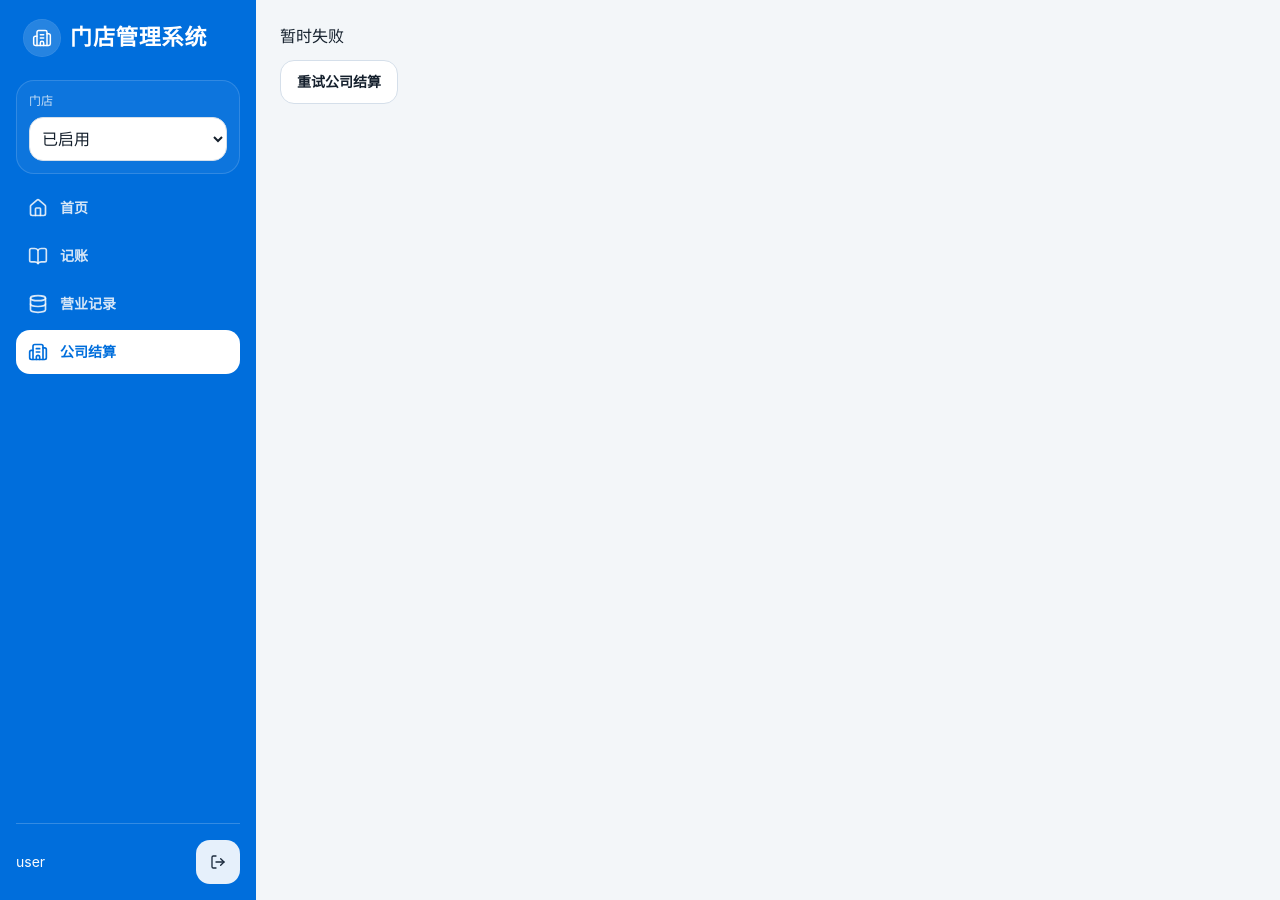
Test: App › offers an accessible retry when the settlement gate read fails
Expected: the message shows "暂时失败", [280, 26, 344, 46]
Click the button "重试公司结算" at [339, 82], box [280, 60, 398, 104]
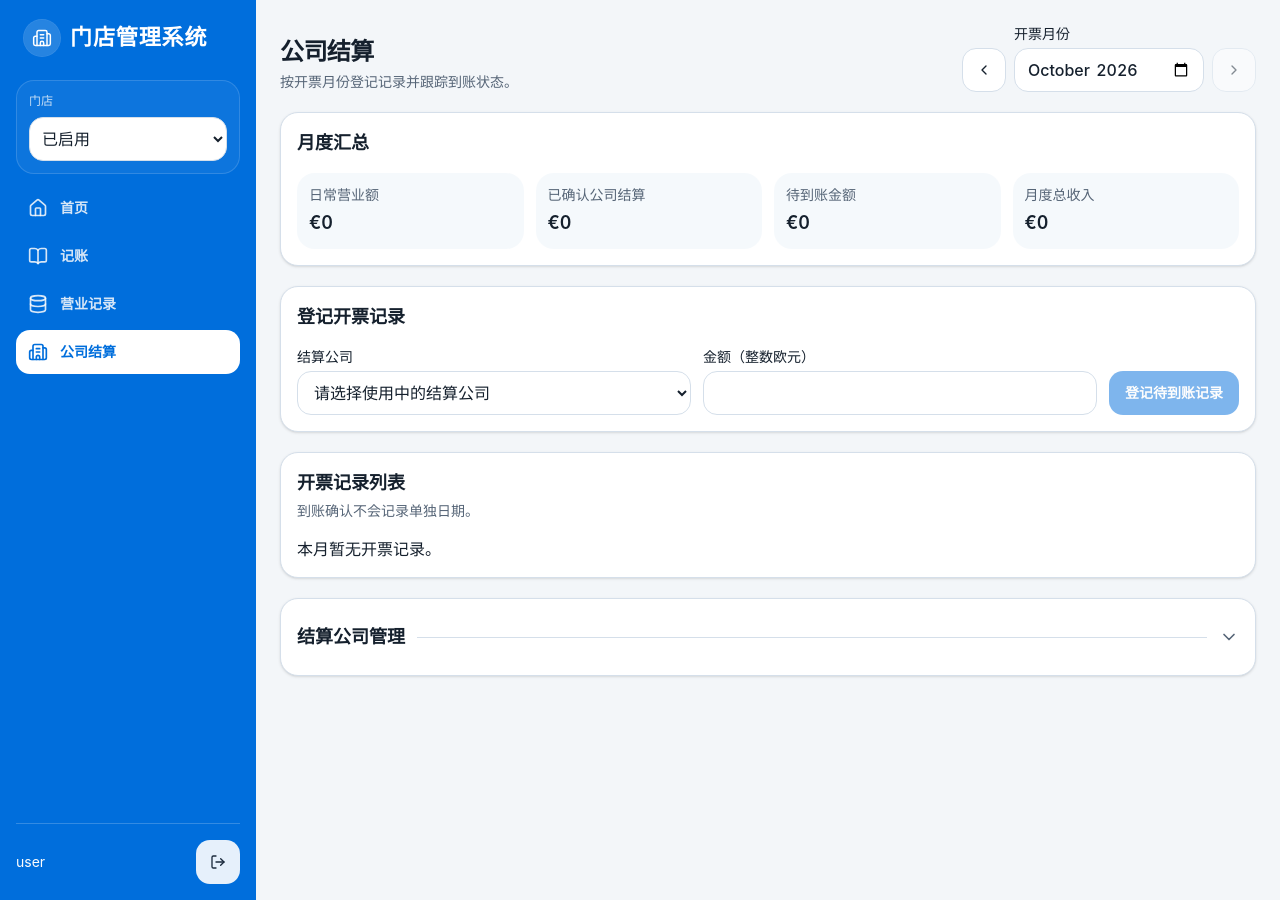
Expected: the heading "公司结算" is shown, [280, 37, 374, 66]
